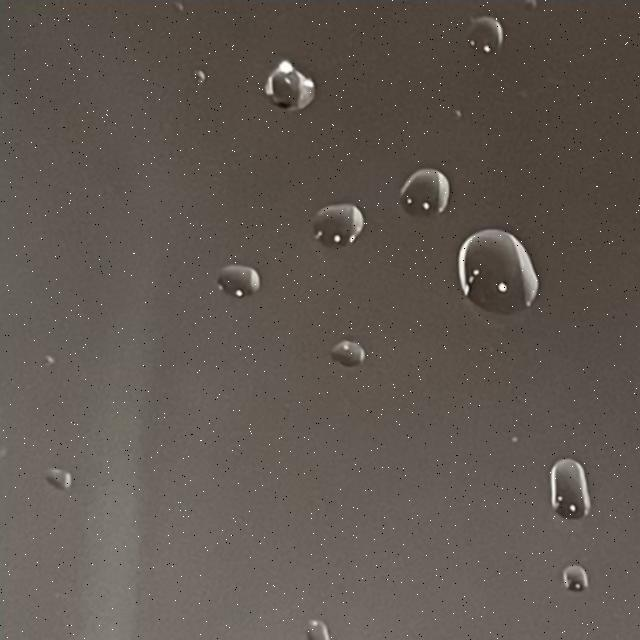raindrop: (451, 228, 542, 328), (297, 192, 376, 257), (243, 51, 322, 116), (540, 449, 604, 524), (394, 164, 469, 223), (206, 248, 270, 310), (318, 322, 383, 370), (457, 8, 509, 67), (37, 455, 76, 498), (550, 560, 594, 593), (291, 612, 336, 640)
